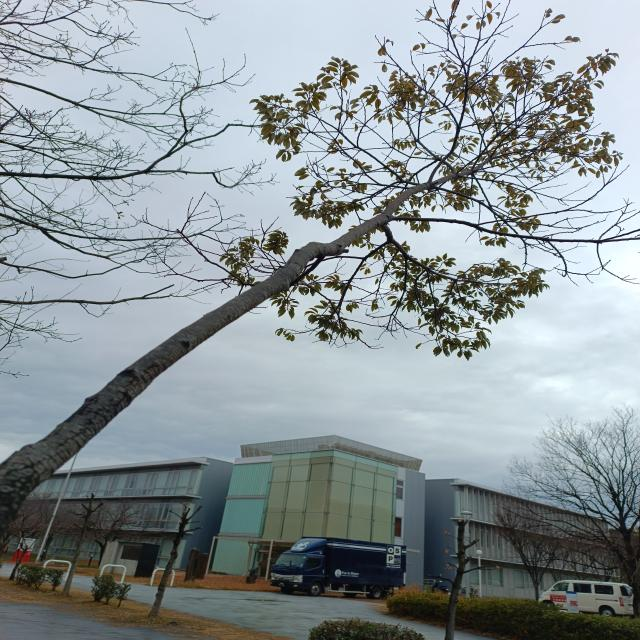Branch: (0, 171, 468, 531), (381, 226, 394, 243)
Twig: (477, 226, 600, 243), (337, 260, 365, 306), (392, 216, 479, 229), (382, 225, 408, 260), (362, 241, 387, 260)
